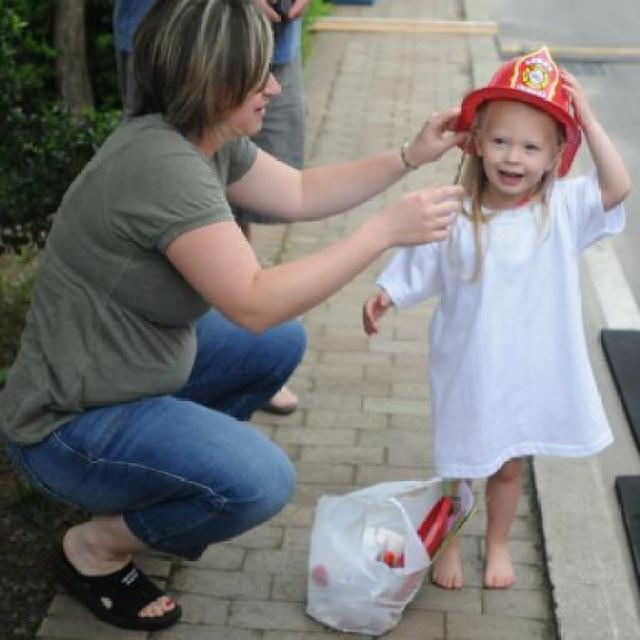plastic bag: (303, 468, 474, 637)
